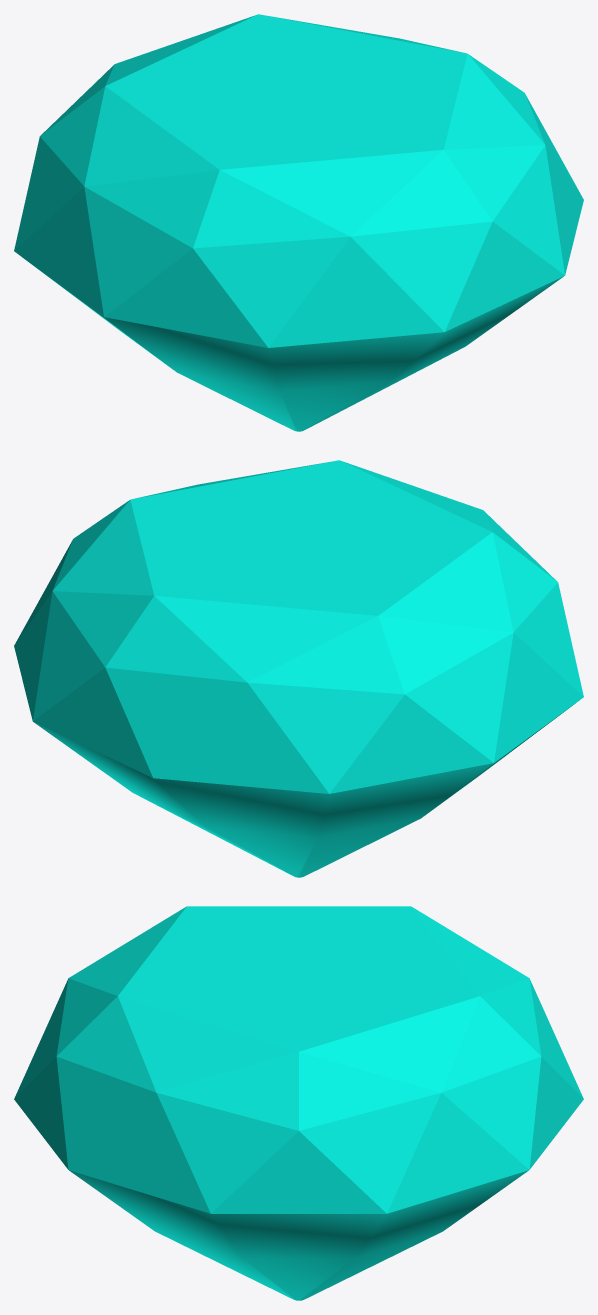
The model's file is TreasureJem.fbx.
3 renders of one model, top to bottom at view 1: azimuth 30°, elevation 25°; view 2: azimuth 150°, elevation 25°; view 3: azimuth 270°, elevation 25°, orthographic. The views are drawn at different scales.
Parts seen in each view (by area): view 1: ICO球; view 2: ICO球; view 3: ICO球.
Part boxes in pixels (x1,y1,x2,y2): ICO球: (14,14,583,431); ICO球: (14,460,583,877); ICO球: (14,906,583,1300).
Size of the model in its own units: 0.5508 by 0.3694 by 0.5792.
